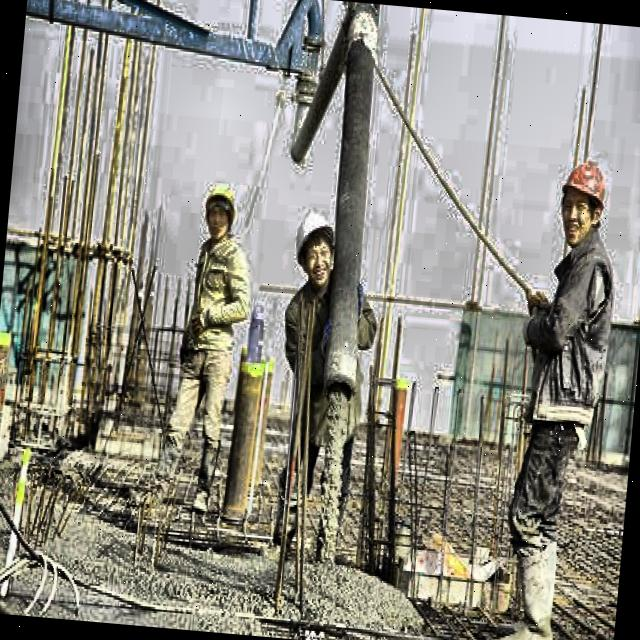helmet: (552, 148, 614, 254), (289, 202, 339, 296), (198, 174, 240, 246)
